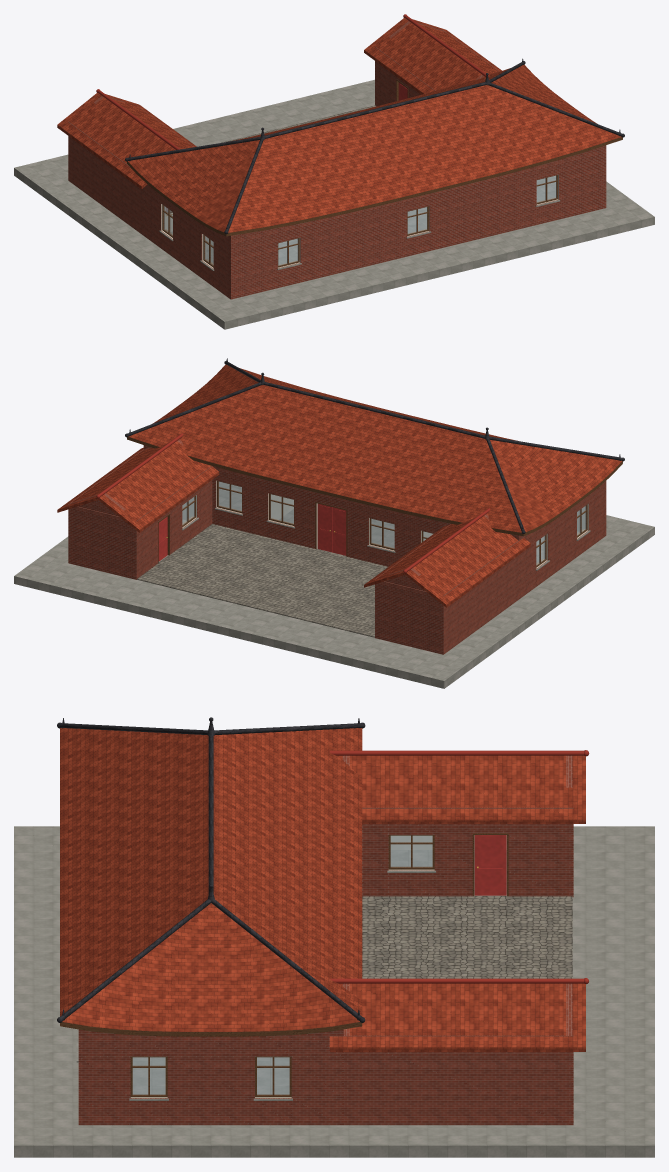
The model's file is b_minnan_sanheyuan.gltf.
3 views of the same model, one above another, from view 1: azimuth 30°, elevation 25°; view 2: azimuth 150°, elevation 25°; view 3: azimuth 270°, elevation 25° (orthographic). The views are drawn at different scales.
Visible parts, largest first — view 1: S_minnan_sanheyuan; view 2: S_minnan_sanheyuan, D_minnan_sanheyuan_F1_S6_Door0, D_minnan_sanheyuan_F1_S6_Door1; view 3: S_minnan_sanheyuan, D_minnan_sanheyuan_Wing1_W0_Door0.
Boxes of the visible parts, x1,y1,x2,y2 form: S_minnan_sanheyuan: (14,14,654,329); S_minnan_sanheyuan: (14,358,654,688); D_minnan_sanheyuan_F1_S6_Door0: (317,503,332,552); D_minnan_sanheyuan_F1_S6_Door1: (332,507,346,555); S_minnan_sanheyuan: (14,717,654,1157); D_minnan_sanheyuan_Wing1_W0_Door0: (474,835,506,895).
Size of the model in its own units: 23 by 6.61 by 19.5.
Materials: 17 (12 with a texture image).
